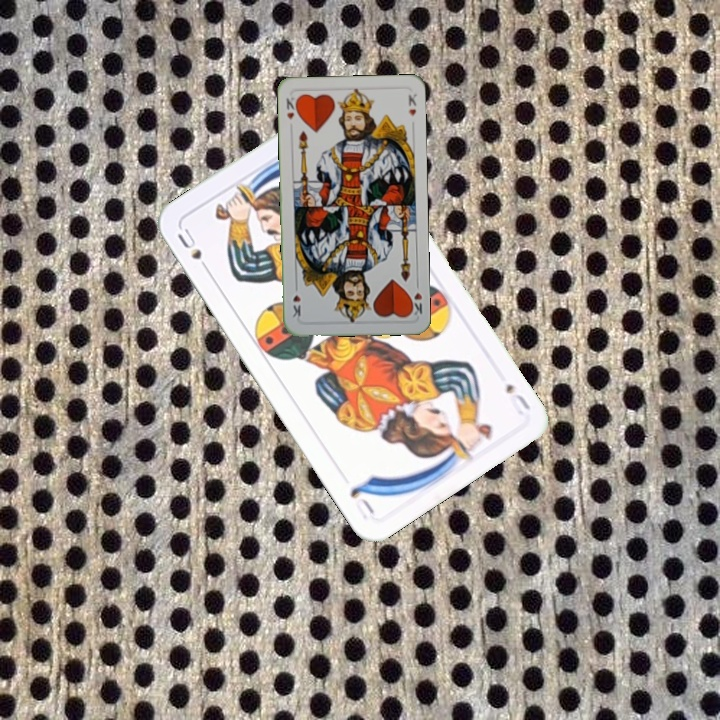HK: (406, 278, 425, 318), (282, 92, 300, 122)
SU: (173, 224, 214, 277), (501, 379, 533, 418)
